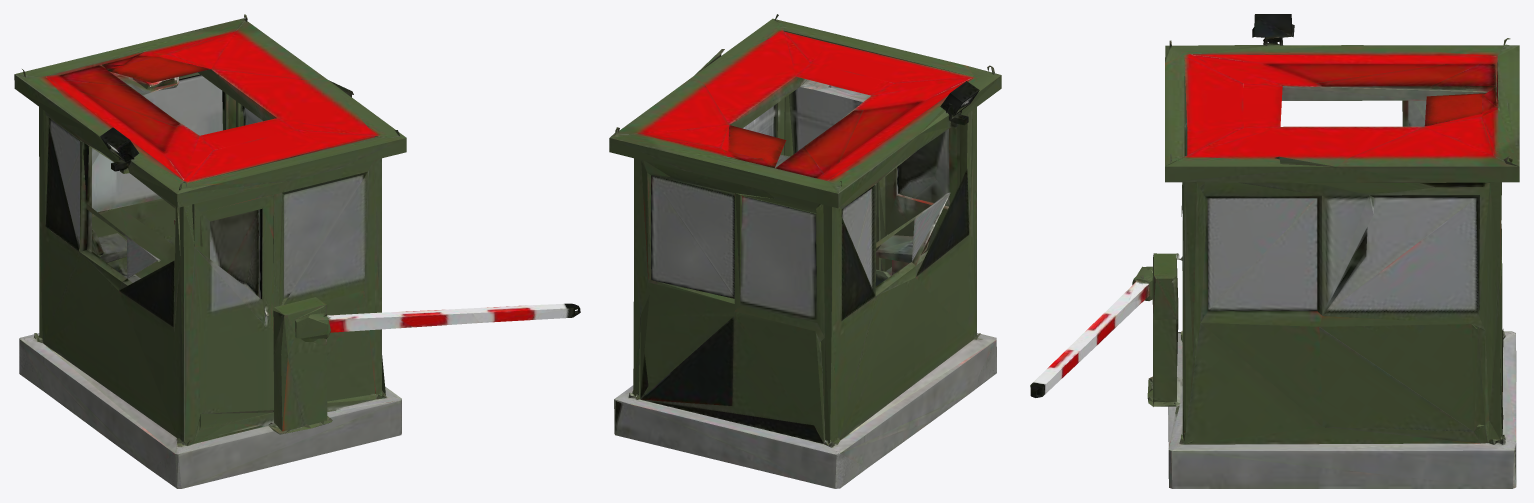
The model's file is booth.glb.
3 views of the same model, side by side, from view 1: azimuth 30°, elevation 25°; view 2: azimuth 150°, elevation 25°; view 3: azimuth 270°, elevation 25° (orthographic). The views are drawn at different scales.
Bounding box in the file's own units: 1.75 × 1.5 × 1.89.
1 material, 1 textured.
